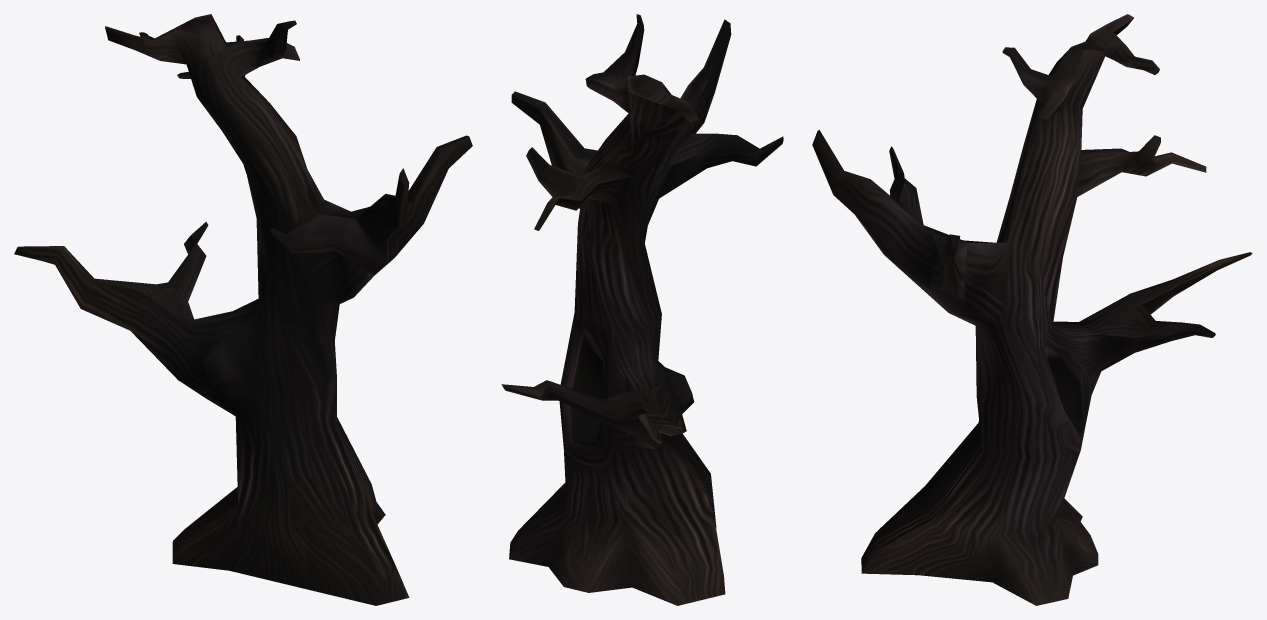
File: spooky-TREE2.fbx
The picture shows the model from 3 angles, left to right: view 1: azimuth 30°, elevation 25°; view 2: azimuth 150°, elevation 25°; view 3: azimuth 270°, elevation 25°; orthographic projection. The views are drawn at different scales.
Parts seen in each view (by area): view 1: spooky_tree2; view 2: spooky_tree2; view 3: spooky_tree2.
Boxes of the visible parts, <box> form: spooky_tree2: <box>14,14,472,605</box>; spooky_tree2: <box>501,14,783,605</box>; spooky_tree2: <box>812,14,1252,605</box>.
Size of the model in its own units: 357 by 600 by 473.
1 material, 1 textured.
